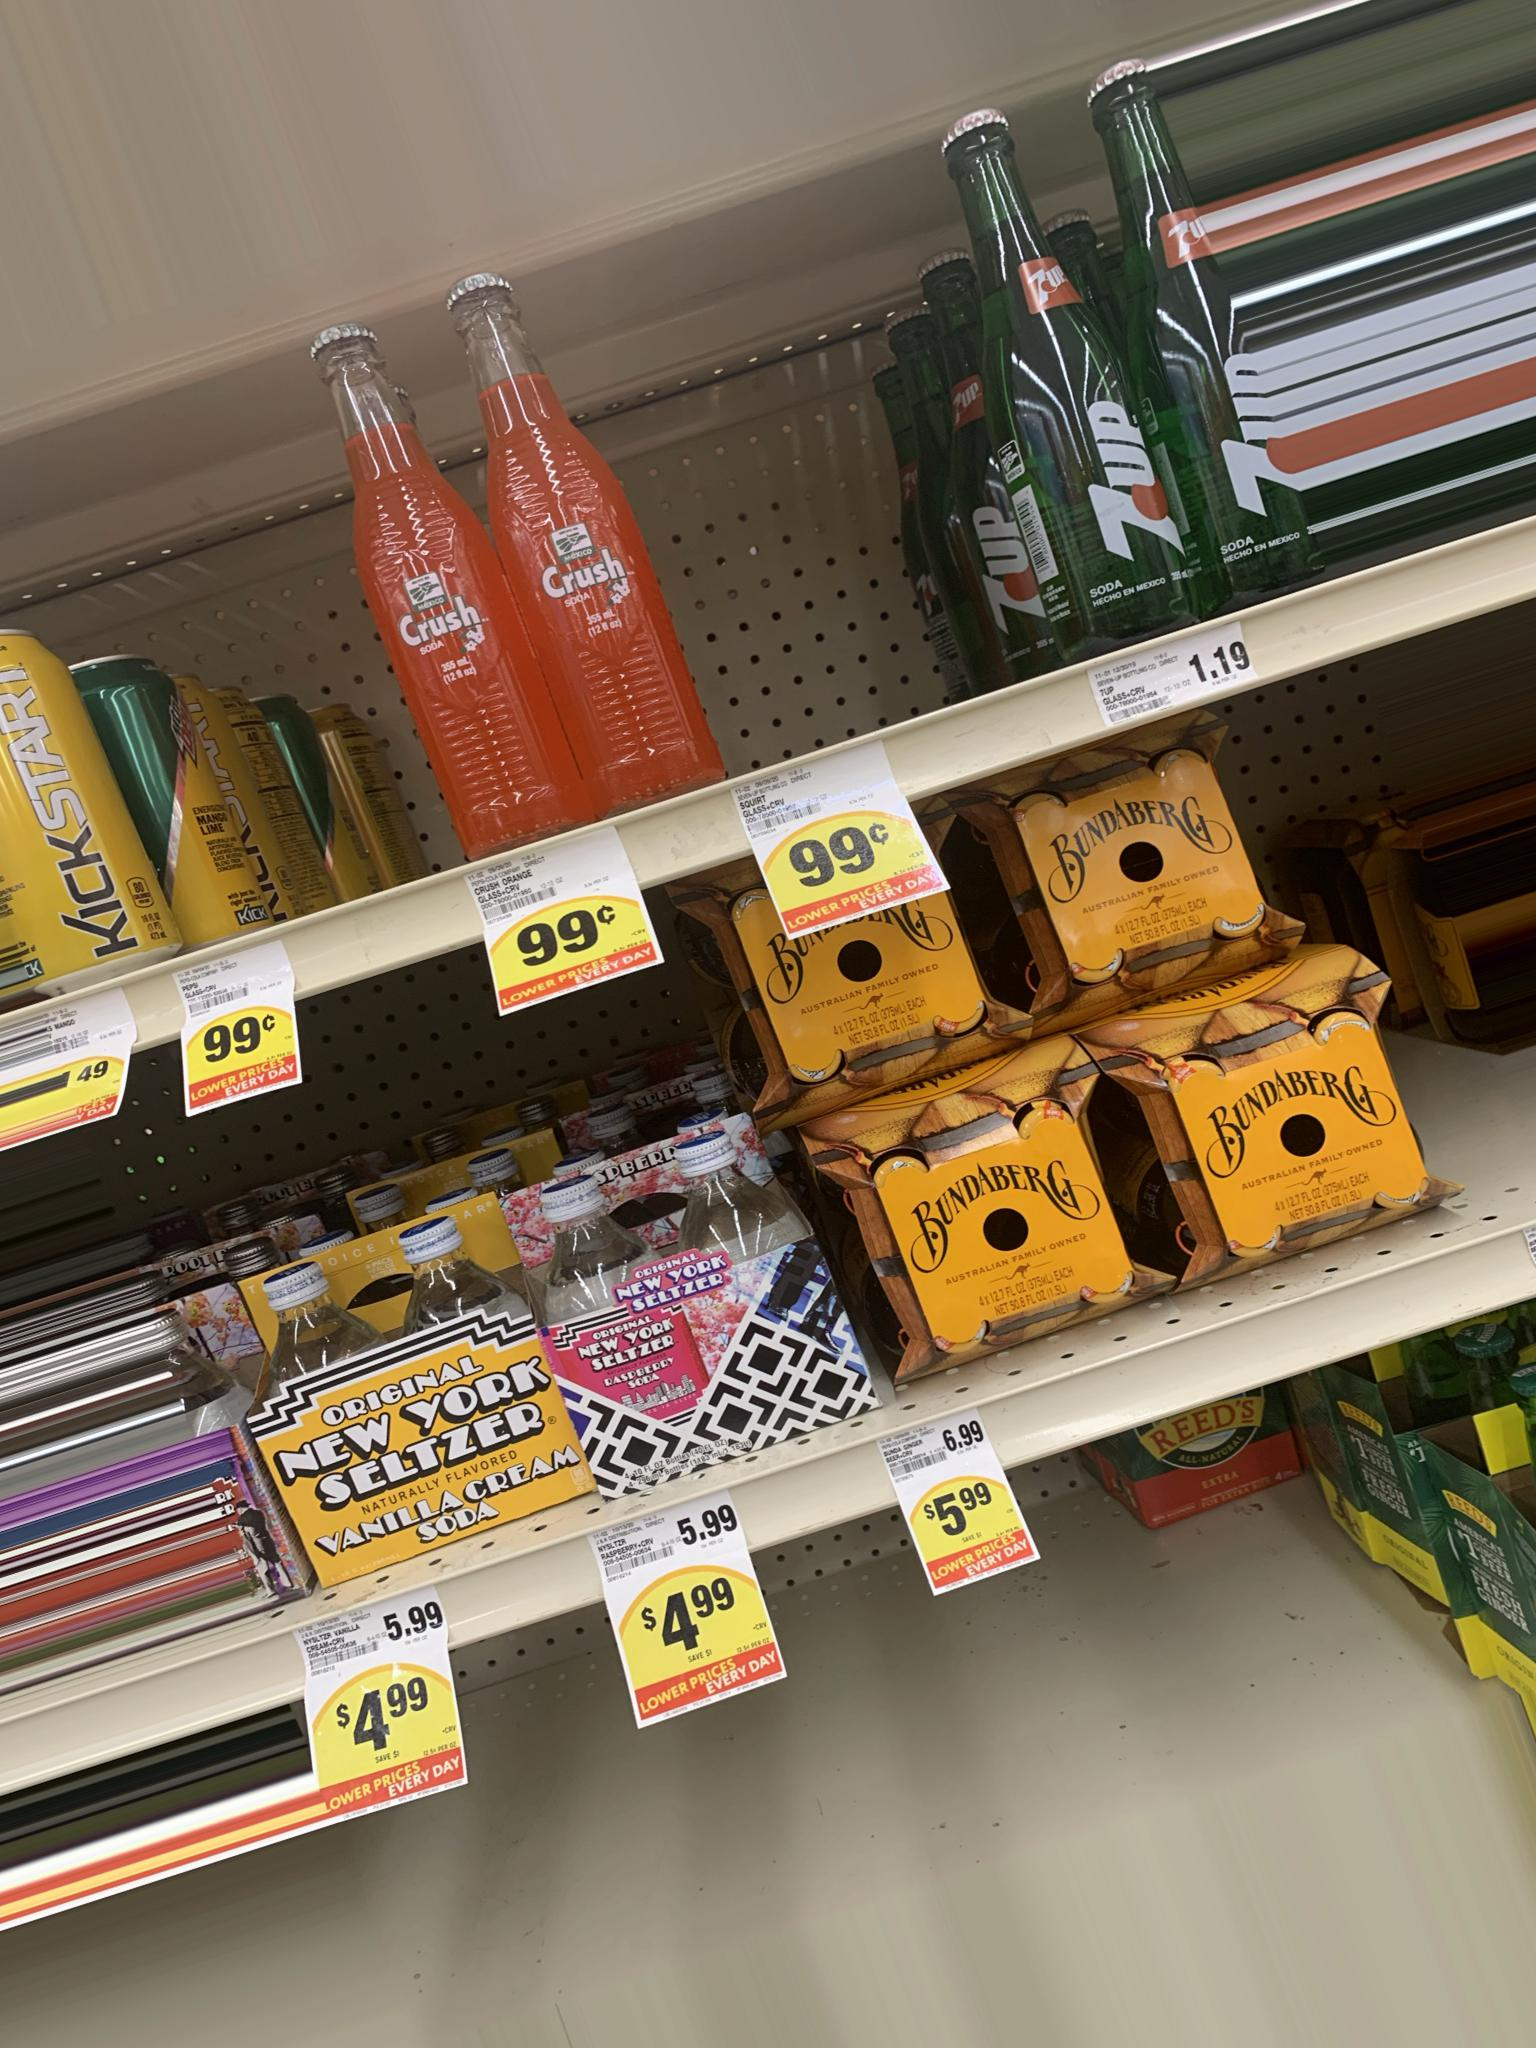7up soda: (920, 98, 1213, 601)
bundaberg soda: (1144, 1030, 1452, 1251), (865, 1105, 1142, 1316), (1025, 797, 1299, 969), (724, 889, 1004, 1043)
crush soda: (239, 389, 729, 819)
kickstart soda: (6, 634, 139, 966)
new york seltzer: (203, 1274, 566, 1530), (539, 1193, 874, 1466)
